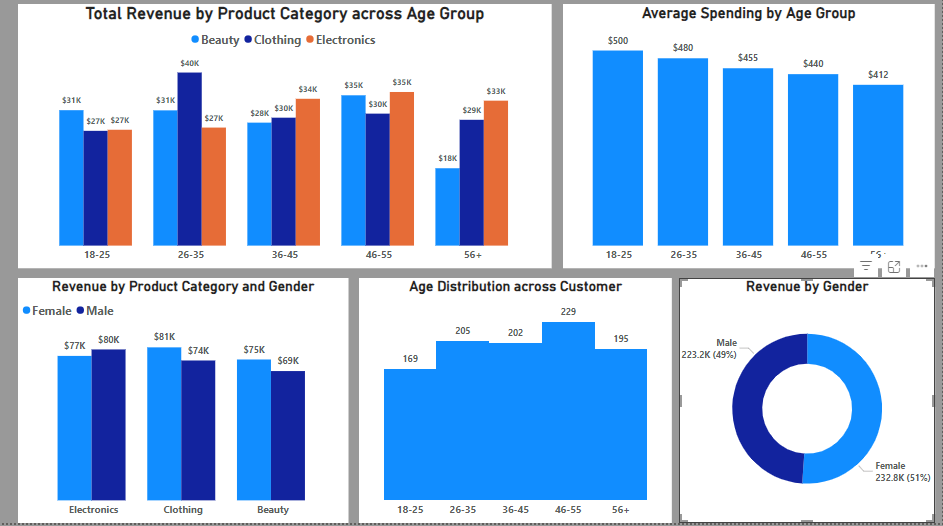

The page's visual inventory and layout, read from the dashboard file:
{"tool":"powerbi","page":{"name":"Customer Insights","canvas":[1280,720],"ordinal":3},"visuals":[{"type":"clusteredColumnChart","title":"Age Distribution across Customer","fields":{"Category":["retail_sales_dataset.Age Group"],"Y":["CountNonNull(retail_sales_dataset.Transaction ID)"]},"box":[487.2,386.8,425.3,333.1],"z":0},{"type":"columnChart","title":"Average Spending by Age Group","fields":{"Category":["retail_sales_dataset.Age Group"],"Y":["Avg(retail_sales_dataset.Total Amount)"]},"box":[765.2,15.1,505.1,359.2],"z":1000},{"type":"clusteredColumnChart","title":"Revenue by Product Category and Gender","fields":{"Category":["retail_sales_dataset.Product Category"],"Y":["Sum(retail_sales_dataset.Total Amount)"],"Series":["retail_sales_dataset.Gender"]},"box":[24.8,386.8,448.7,333.1],"z":2000},{"type":"clusteredColumnChart","title":"Total Revenue by Product Category across Age Group","fields":{"Category":["retail_sales_dataset.Age Group"],"Y":["Sum(retail_sales_dataset.Total Amount)"],"Series":["retail_sales_dataset.Product Category"]},"box":[24.8,15.1,725.3,359.2],"z":4000},{"type":"donutChart","title":"Revenue by Gender","fields":{"Category":["retail_sales_dataset.Gender"],"Y":["Sum(retail_sales_dataset.Total Amount)"]},"box":[922.2,386.8,348.2,333.1],"z":4001}]}

Visuals, with their boxes in screenshot pixels (x1, y1, x2, y2), scaled from the page's 1280x720 canvas onto the 943x526 screenshot:
"Age Distribution across Customer" clusteredColumnChart: {"x1": 359, "y1": 283, "x2": 672, "y2": 525}
"Average Spending by Age Group" columnChart: {"x1": 564, "y1": 11, "x2": 936, "y2": 273}
"Revenue by Product Category and Gender" clusteredColumnChart: {"x1": 18, "y1": 283, "x2": 349, "y2": 525}
"Total Revenue by Product Category across Age Group" clusteredColumnChart: {"x1": 18, "y1": 11, "x2": 553, "y2": 273}
"Revenue by Gender" donutChart: {"x1": 679, "y1": 283, "x2": 936, "y2": 525}
